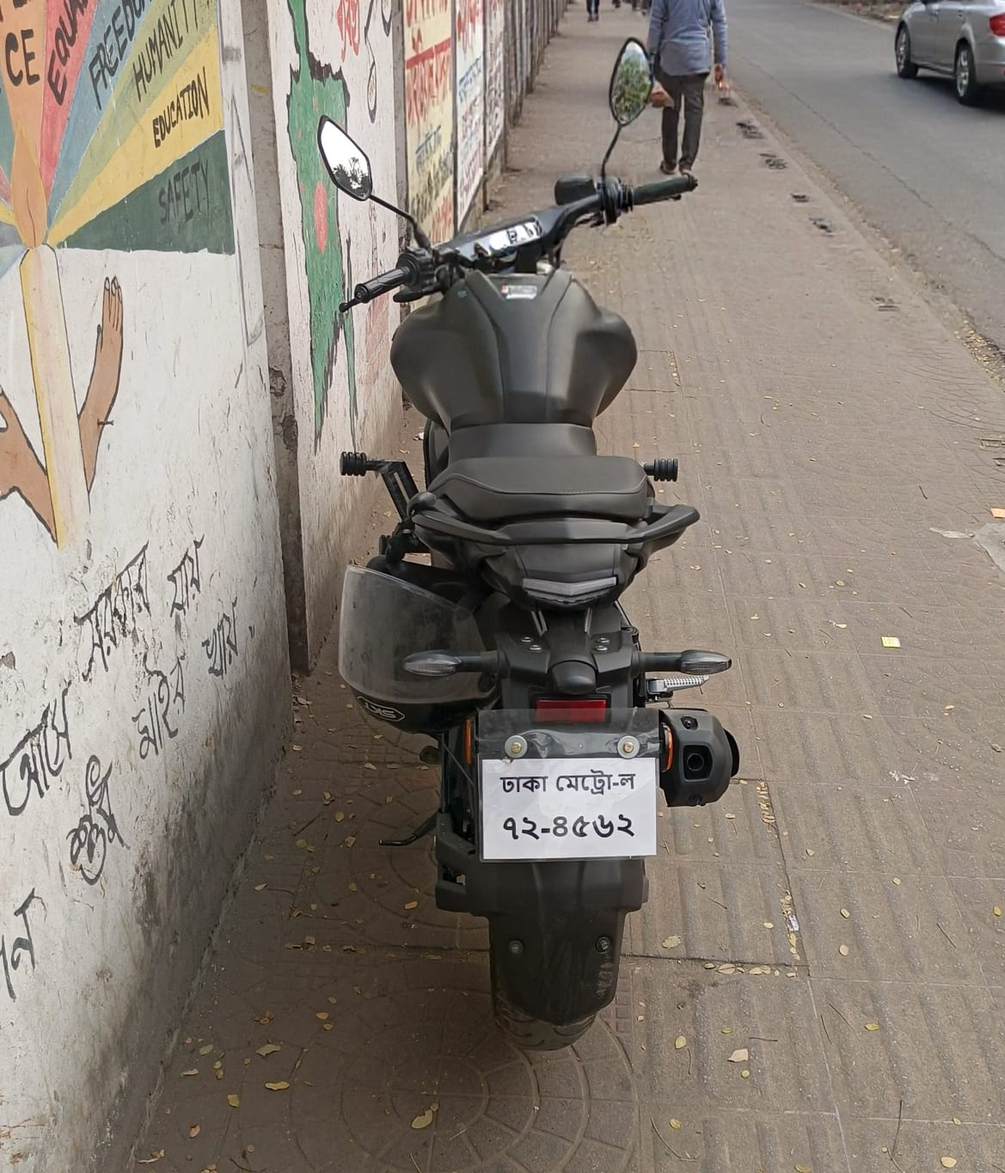Bikes: (307, 47, 759, 1063)
